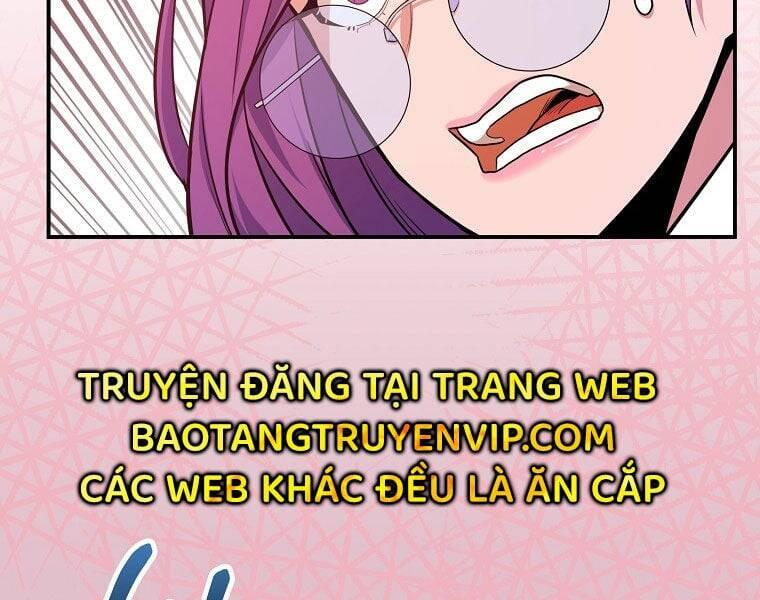quangcao: (72, 358, 669, 508)
